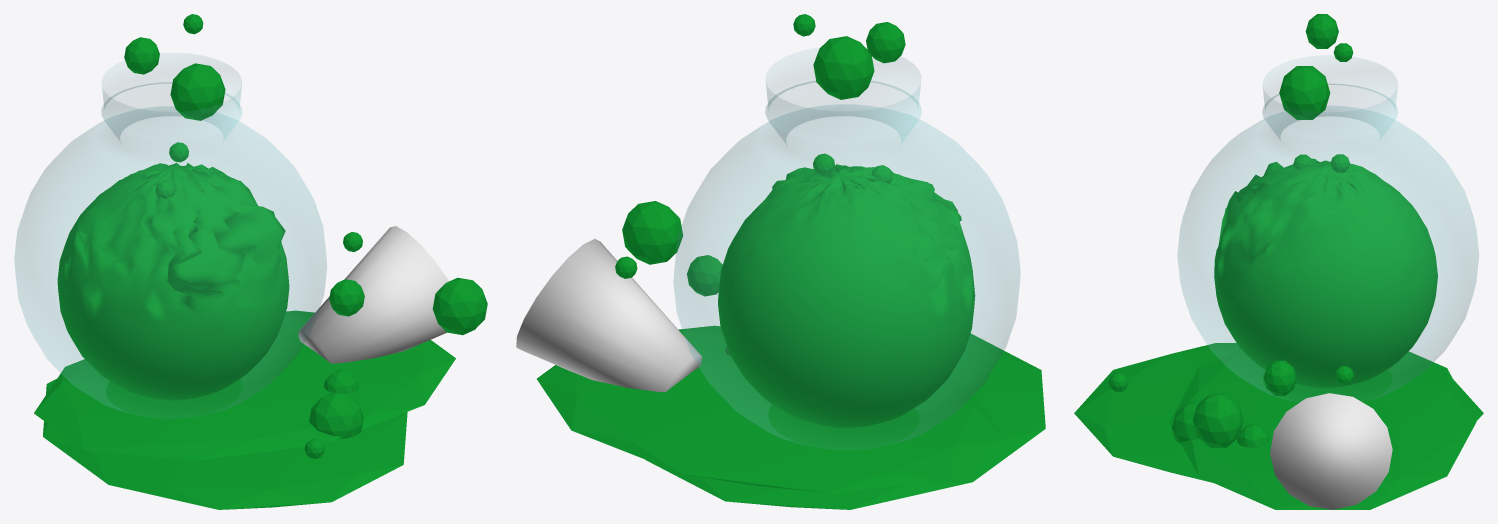
Rendered from potiunesferastricata.fbx.
3 views of the same model, side by side, from view 1: azimuth 30°, elevation 25°; view 2: azimuth 150°, elevation 25°; view 3: azimuth 270°, elevation 25° (orthographic). The views are drawn at different scales.
Visible parts, largest first — view 1: Sphere, Sphere.001, Icosphere, Icosphere.001, CylinderSphere, Icosphere.004, Icosphere.009, Icosphere.008, Icosphere.012, Icosphere.005, Icosphere.010; view 2: Sphere, Sphere.001, Icosphere, CylinderSphere, Icosphere.001, Icosphere.009, Icosphere.004, Icosphere.005, Icosphere.012; view 3: Sphere, Sphere.001, Icosphere, CylinderSphere, Icosphere.001, Icosphere.009, Icosphere.004, Icosphere.012, Icosphere.005, Icosphere.008, Icosphere.010.
Boxes of the visible parts, <box> form: Sphere: <box>14,53,326,418</box>; Sphere.001: <box>57,162,289,400</box>; Icosphere: <box>34,310,455,461</box>; Icosphere.001: <box>43,379,407,509</box>; CylinderSphere: <box>298,226,448,363</box>; Icosphere.004: <box>170,63,225,120</box>; Icosphere.009: <box>432,277,487,335</box>; Icosphere.008: <box>309,391,363,439</box>; Icosphere.012: <box>329,279,364,316</box>; Icosphere.005: <box>124,37,159,74</box>; Icosphere.010: <box>324,370,358,394</box>; Sphere: <box>673,47,1020,449</box>; Sphere.001: <box>718,164,975,427</box>; Icosphere: <box>537,325,1004,492</box>; CylinderSphere: <box>516,239,701,392</box>; Icosphere.001: <box>645,333,1045,509</box>; Icosphere.009: <box>622,201,683,264</box>; Icosphere.004: <box>813,36,874,99</box>; Icosphere.005: <box>866,22,905,63</box>; Icosphere.012: <box>687,255,722,296</box>; Sphere: <box>1177,55,1478,401</box>; Sphere.001: <box>1214,158,1437,388</box>; Icosphere: <box>1169,349,1476,509</box>; CylinderSphere: <box>1270,393,1392,509</box>; Icosphere.001: <box>1074,343,1483,482</box>; Icosphere.009: <box>1192,393,1243,447</box>; Icosphere.004: <box>1279,66,1330,119</box>; Icosphere.012: <box>1263,360,1296,395</box>; Icosphere.005: <box>1305,14,1338,48</box>; Icosphere.008: <box>1171,401,1200,444</box>; Icosphere.010: <box>1237,424,1268,447</box>.
Bounding box in the file's own units: 696 × 637 × 617.
